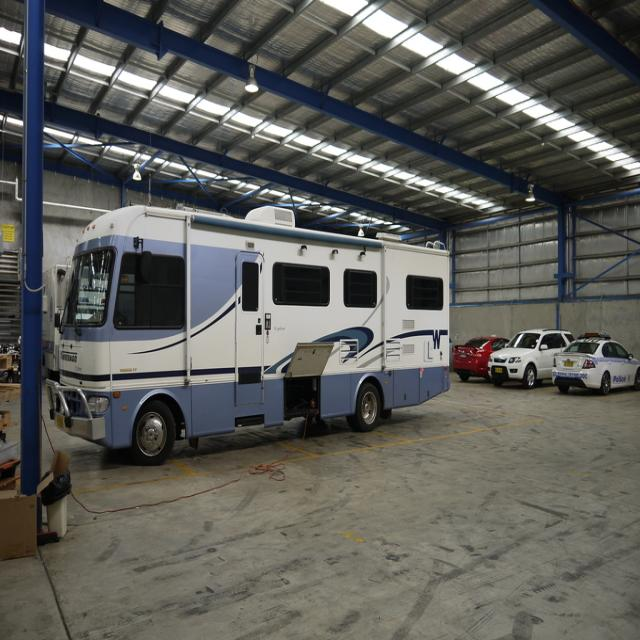car: (561, 333, 633, 395)
